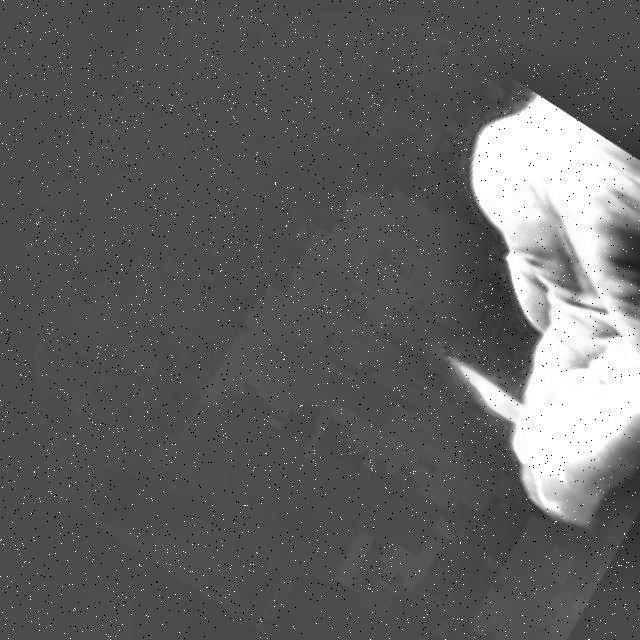Fire: (418, 334, 570, 452)
